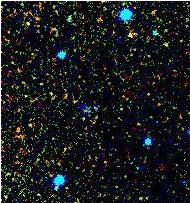star: (117, 19, 147, 49)
